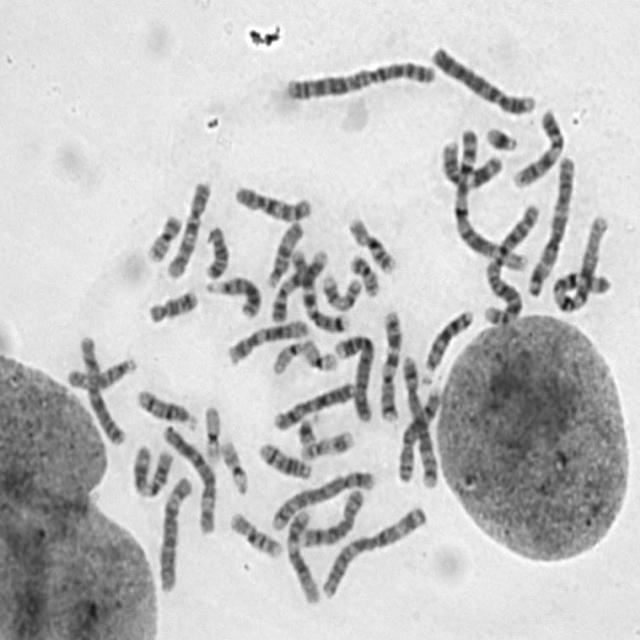A1: (453, 128, 529, 273), (550, 215, 614, 314)
A2: (482, 203, 542, 328), (284, 62, 435, 100)
A3: (321, 506, 427, 601), (526, 155, 578, 299)
B4: (429, 46, 538, 118), (332, 334, 374, 424)
B5: (270, 472, 376, 532), (399, 354, 439, 490)
C10: (166, 181, 212, 281), (231, 184, 312, 224)
C11: (441, 140, 504, 190), (130, 446, 173, 498)
C12: (228, 320, 310, 366), (286, 507, 323, 604)
C6: (161, 425, 218, 535), (158, 475, 194, 592)
C7: (291, 249, 348, 332), (378, 311, 402, 425)
C8: (395, 385, 441, 483), (300, 488, 365, 548)
C9: (270, 249, 329, 326), (510, 108, 565, 190)
D13: (420, 307, 475, 386), (205, 275, 263, 320)
D14: (136, 388, 199, 430), (257, 442, 314, 482)
D15: (268, 220, 306, 288), (66, 356, 137, 391)
E16: (344, 216, 397, 277), (227, 512, 284, 562)
E17: (299, 430, 354, 462), (321, 274, 364, 313)
E18: (147, 290, 200, 327), (202, 228, 233, 280)
F19: (301, 340, 339, 374), (203, 406, 222, 466)
F20: (146, 215, 183, 266), (347, 254, 380, 298)
G21: (482, 125, 520, 154), (296, 412, 320, 450)
G22: (219, 440, 250, 498), (269, 342, 303, 377)
X: (79, 334, 128, 449), (274, 382, 356, 434)
